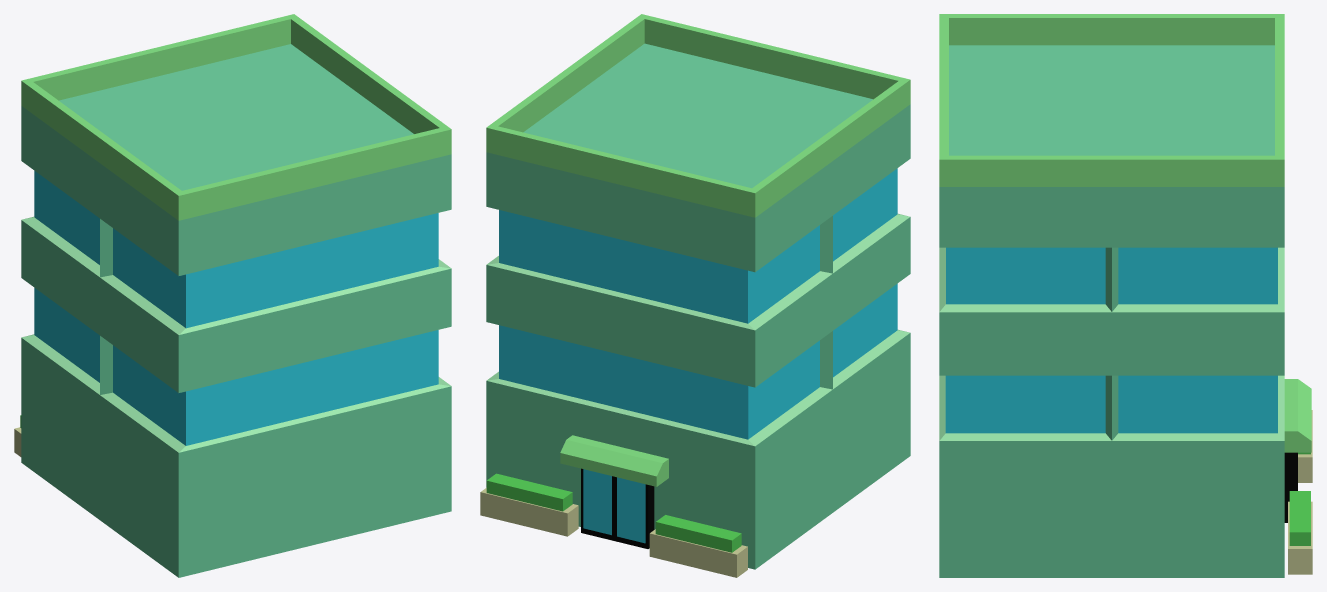
Rendered from OfficeBuilding03.fbx.
3 views of the same model, side by side, from view 1: azimuth 30°, elevation 25°; view 2: azimuth 150°, elevation 25°; view 3: azimuth 270°, elevation 25° (orthographic). The views are drawn at different scales.
Parts seen in each view (by area): view 1: Cube; view 2: Cube; view 3: Cube.
Part boxes in pixels (<box>): Cube: <box>14,14,451,577</box>; Cube: <box>480,14,910,577</box>; Cube: <box>939,14,1312,577</box>.
Bounding box in the file's own units: 800 × 1071 × 865.
